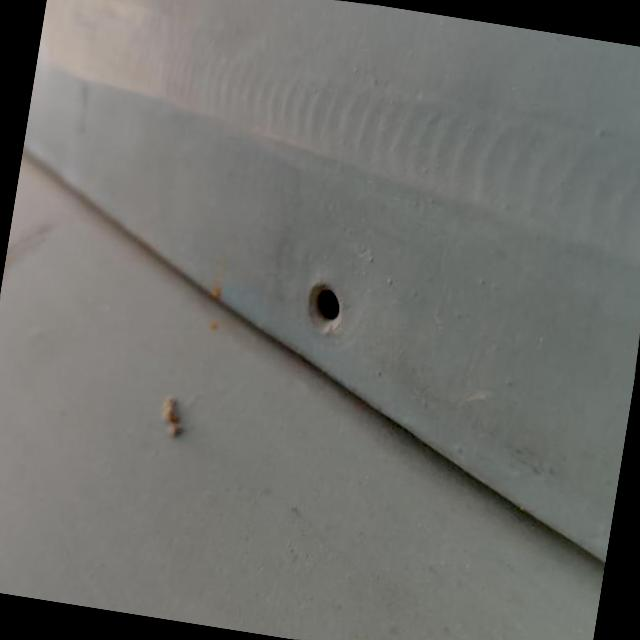Missing Fastener: (302, 277, 356, 340)
